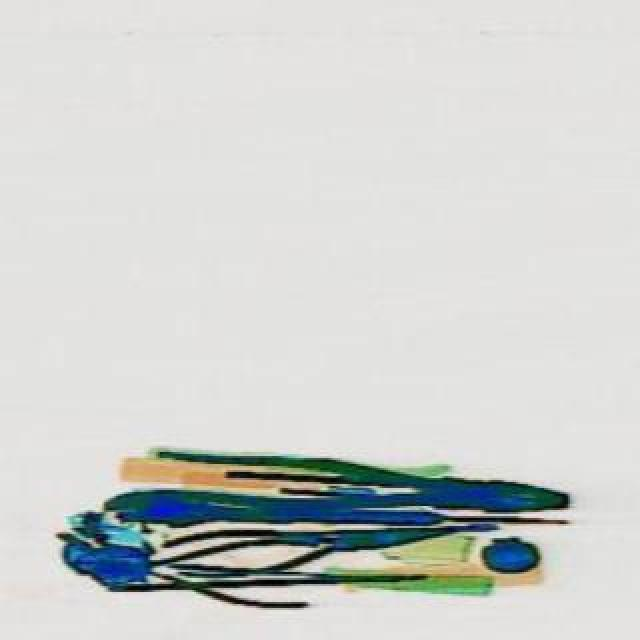wrench: (138, 444, 566, 524), (154, 502, 494, 582), (110, 522, 310, 608)
